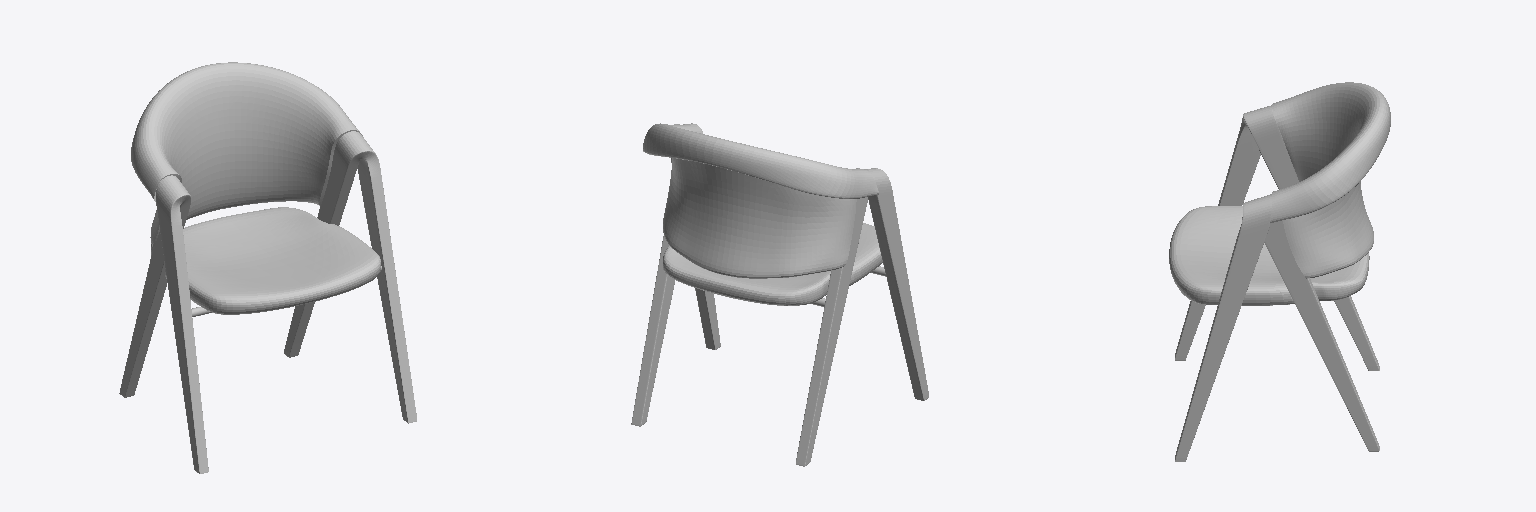
The model's file is chair.obj.
The picture shows the model from 3 angles: view 1: azimuth 30°, elevation 25°; view 2: azimuth 150°, elevation 25°; view 3: azimuth 270°, elevation 25°; orthographic projection.
Parts seen in each view (by area): view 1: Seljatugi.003_Plane.003; view 2: Seljatugi.003_Plane.003; view 3: Seljatugi.003_Plane.003.
Part boxes in pixels (bbox=[...]): Seljatugi.003_Plane.003: bbox=[119, 62, 416, 473]; Seljatugi.003_Plane.003: bbox=[631, 123, 928, 466]; Seljatugi.003_Plane.003: bbox=[1169, 82, 1390, 461].
Size of the model in its own units: 2.76 by 3.71 by 2.43.